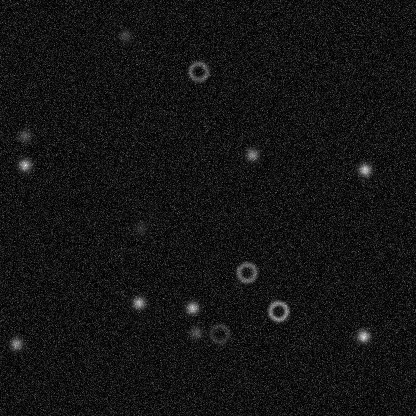Ring: (207, 321, 231, 345), (266, 298, 290, 322), (186, 59, 210, 83), (234, 260, 258, 284)
Spot: (355, 328, 371, 344), (184, 299, 200, 315), (16, 127, 32, 143), (356, 161, 372, 177), (187, 324, 203, 340), (16, 156, 32, 172), (132, 220, 148, 236), (117, 27, 133, 43), (8, 335, 24, 351), (130, 294, 146, 310), (244, 146, 260, 162)
